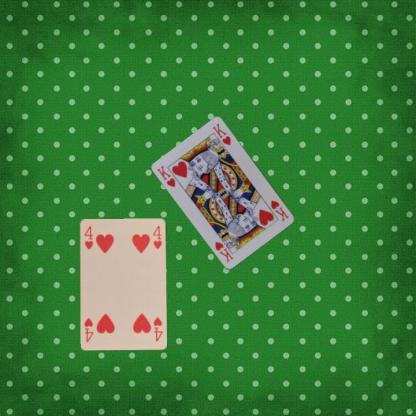4h: (82, 223, 94, 251), (151, 314, 163, 342)
Kh: (154, 162, 177, 188), (268, 198, 290, 222)
